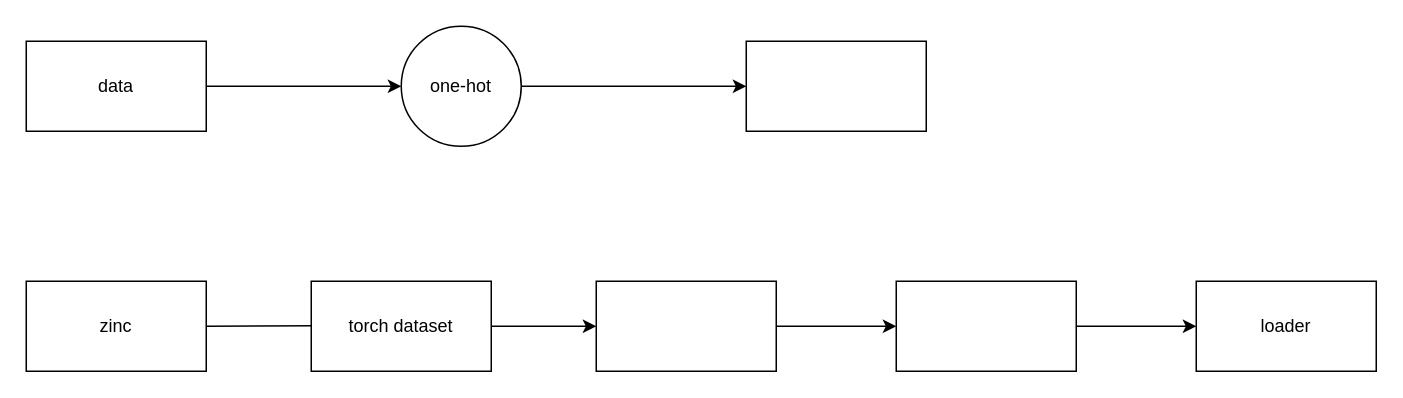
Some shapes in this 1403 by 398 pixel diagram are drawn without their labels. Here are the shapes that lost their labels. From the top down, the centre of each, then its label:
At pixel 835 85: "torch.utils.Data Dataloader".
At pixel 685 325: "save".
At pixel 985 325: "load".
